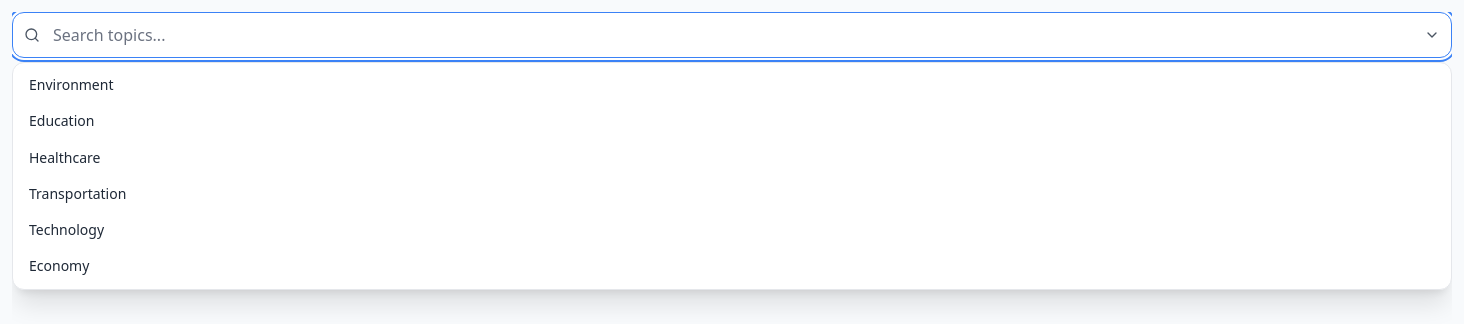
Test case: TopicsAutocomplete › filters topics on input
Expected: the option "Environment" is shown, [29,75,114,94]
Type "env" into the dropdown with placeholder "Search topics..." at (732, 35), box [12,12,1452,58]
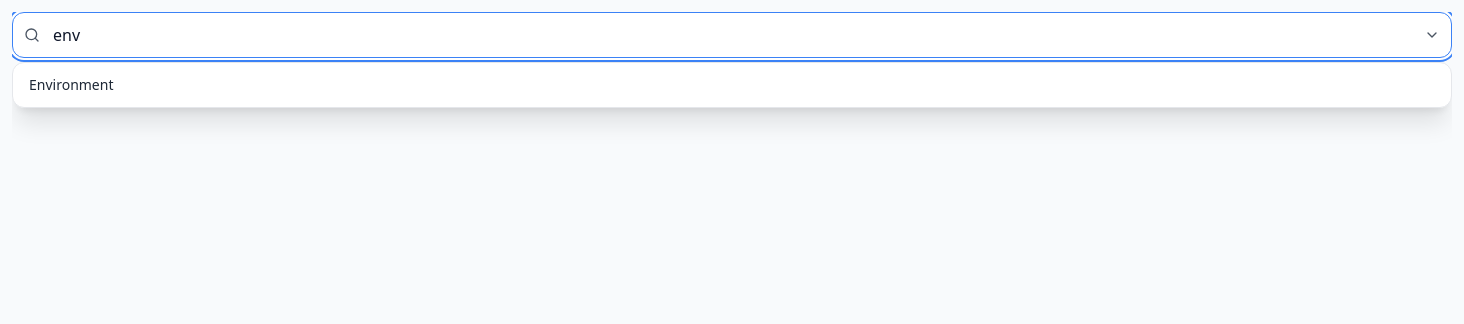
Expected: the option "Environment" is shown, [29,75,114,94]
Now the option "Education" is gone
